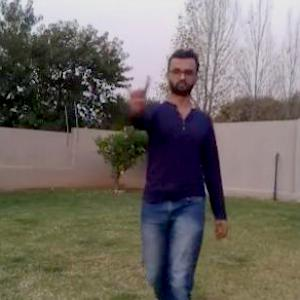takeoff-hand: (122, 60, 153, 106)
